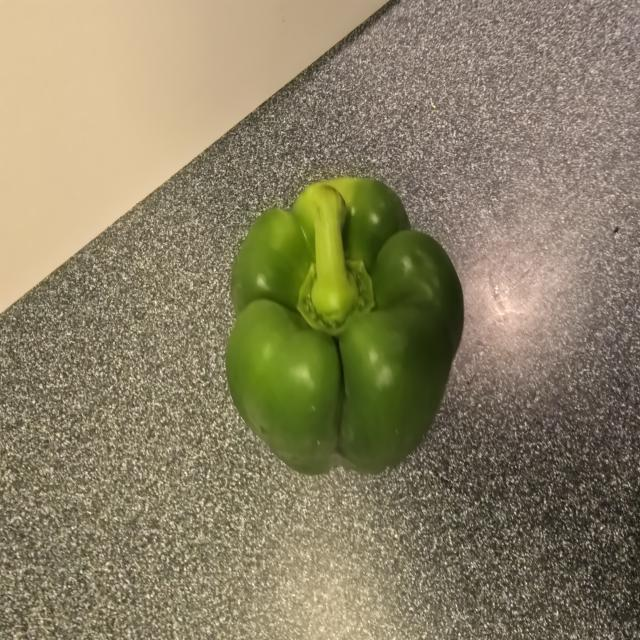Bell Pepper: (224, 171, 468, 482)
